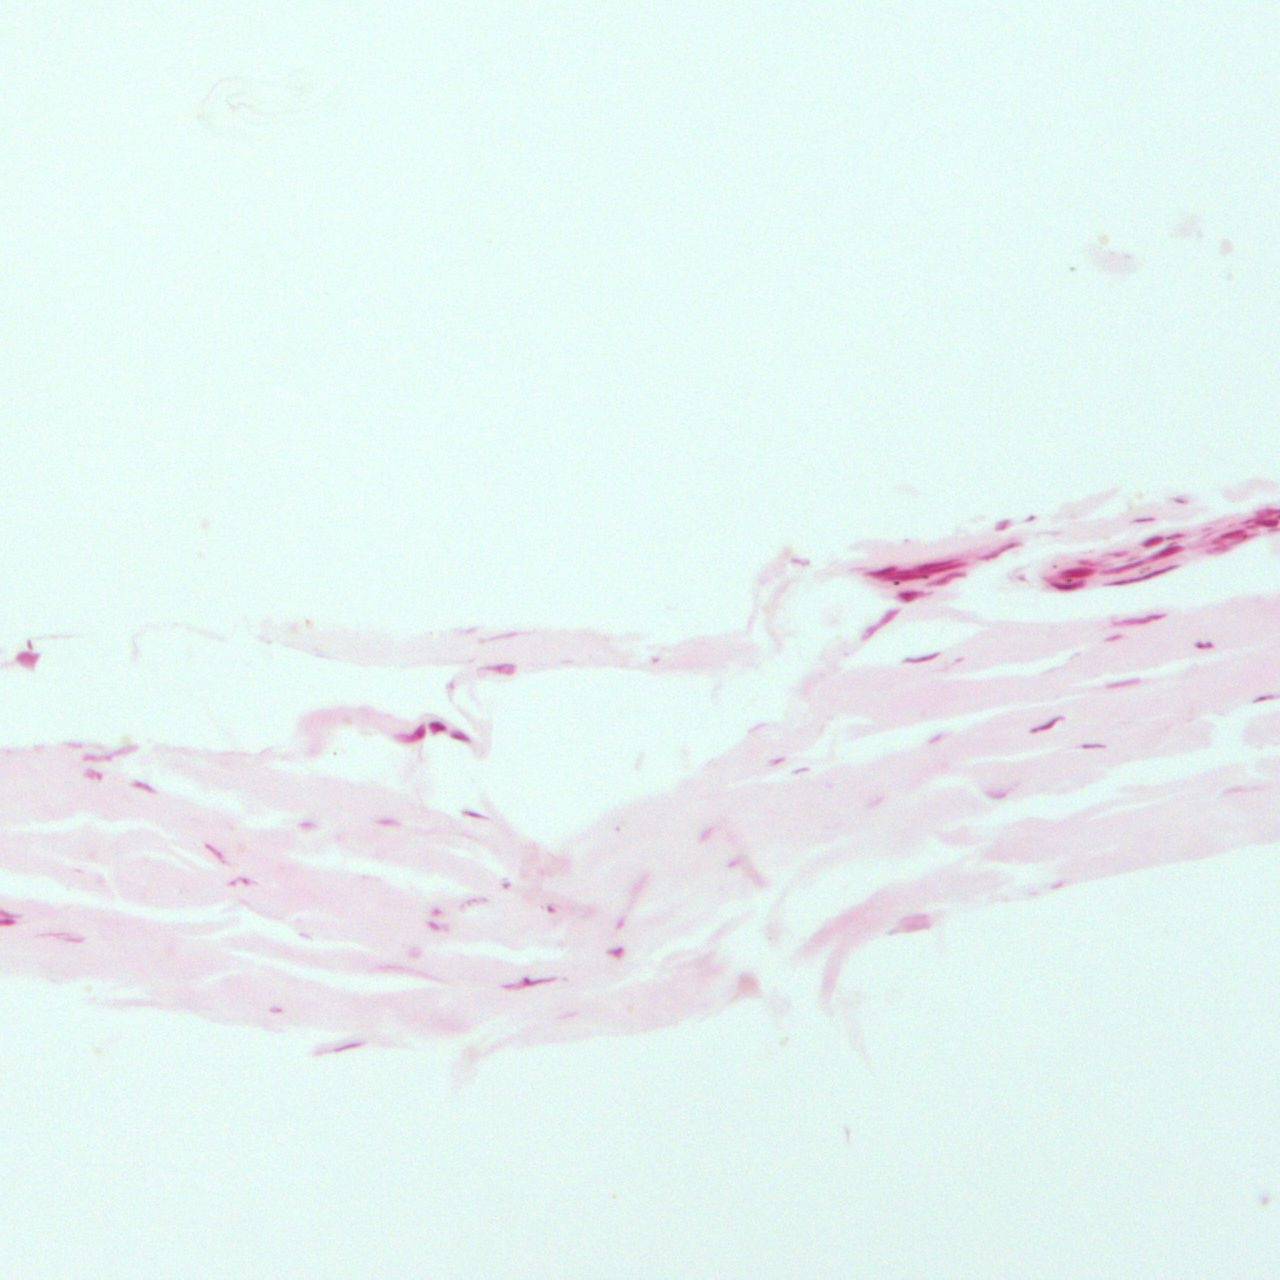dust: (1257, 1196, 1271, 1210), (613, 823, 623, 830), (893, 581, 900, 586), (923, 574, 928, 579), (1052, 565, 1057, 569), (903, 538, 907, 542)
nucleus-AC: (854, 602, 906, 645), (1105, 564, 1179, 589), (496, 971, 563, 994), (1024, 710, 1069, 741), (473, 624, 528, 646), (395, 719, 430, 749), (318, 1039, 365, 1061), (1110, 610, 1166, 628), (38, 926, 85, 947), (83, 745, 137, 763), (980, 540, 1021, 562), (1103, 557, 1148, 577), (894, 911, 931, 935), (898, 648, 941, 667), (1150, 540, 1187, 562), (203, 840, 230, 869), (1101, 675, 1146, 691), (930, 569, 964, 588), (13, 650, 41, 671), (460, 804, 488, 824), (867, 561, 898, 579), (130, 777, 159, 796), (909, 560, 946, 574), (1139, 532, 1166, 551), (1046, 579, 1088, 591), (1218, 526, 1245, 544), (223, 876, 257, 890), (480, 662, 516, 675), (925, 728, 947, 748), (460, 896, 489, 911), (932, 560, 965, 573), (1058, 566, 1092, 578), (1100, 629, 1125, 645), (695, 826, 714, 846), (1252, 691, 1276, 706), (897, 591, 927, 603), (1202, 543, 1234, 554), (611, 913, 628, 933), (1253, 504, 1280, 516), (877, 573, 923, 580), (1098, 549, 1129, 559), (986, 788, 1014, 799), (374, 817, 401, 828), (449, 729, 471, 742), (607, 947, 627, 961), (768, 754, 787, 768), (427, 722, 447, 735), (865, 795, 885, 808), (83, 768, 102, 781), (1048, 879, 1068, 891), (267, 1003, 285, 1016), (1256, 518, 1279, 528), (791, 764, 809, 776), (724, 858, 739, 872), (1075, 558, 1105, 565), (1195, 641, 1218, 650), (297, 821, 317, 831), (790, 556, 810, 566), (408, 946, 423, 958), (299, 931, 317, 941), (1166, 532, 1185, 541), (995, 519, 1010, 530), (953, 656, 969, 666), (1081, 743, 1107, 749), (64, 740, 83, 748), (430, 907, 445, 917), (426, 921, 440, 931), (1130, 517, 1158, 522), (648, 656, 662, 666), (1172, 496, 1189, 504), (543, 905, 558, 914), (1236, 517, 1254, 524), (501, 882, 514, 891), (1025, 514, 1035, 523), (1199, 525, 1213, 531)
